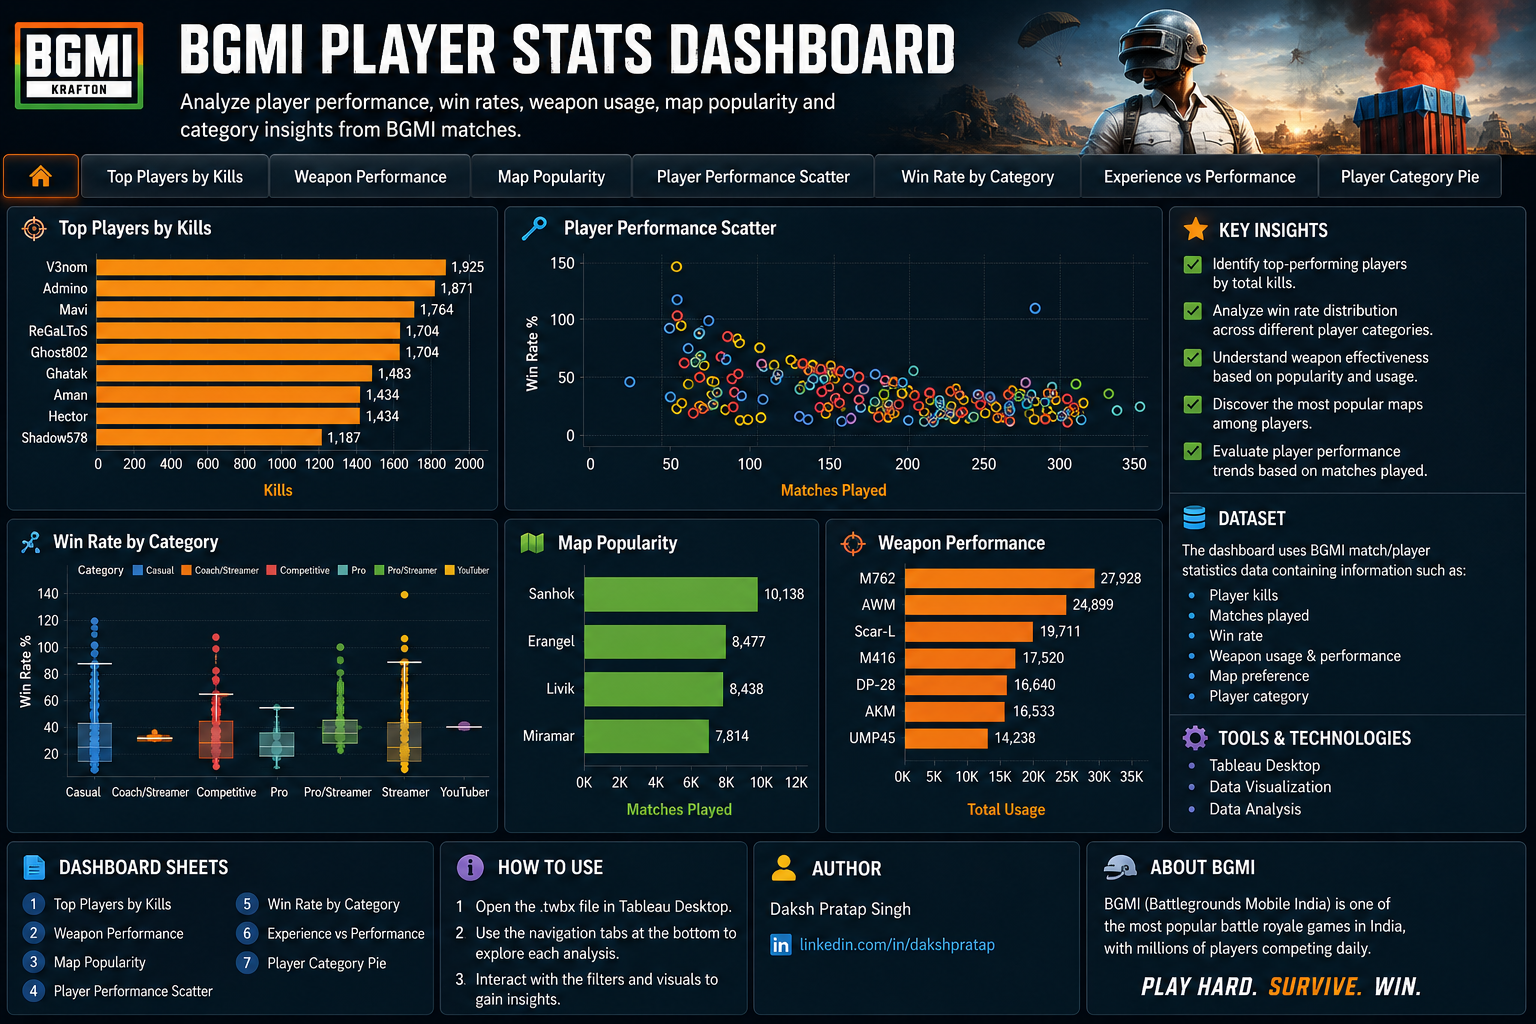

The page's visual inventory and layout, read from the dashboard file:
{"tool":"tableau","page":{"name":"Dashboard 1","canvas":[1000,1000],"units":"permille","ordinal":0},"visuals":[{"type":"text","box":[22.4,22.1,249.4,76.7]},{"type":"worksheet","title":"Player Performance Scatter","mark":"Automatic","rows":["Win_Rate_%"],"cols":["Matches_Played"],"box":[491.7,99.2,507.7,249.2]},{"type":"worksheet","title":"Top Players by Kills","mark":"Bar","rows":["InGame_Name"],"cols":["Kills"],"box":[20.8,100.8,393.9,252.4]},{"type":"worksheet","title":"Weapon Performance","mark":"Bar","rows":["Favorite_Weapon"],"cols":["Kills"],"box":[757.8,395.2,238.5,334.1]},{"type":"worksheet","title":"Map Popularity","mark":"Bar","rows":["Favorite_Map"],"cols":["Matches_Played"],"box":[494.8,401.6,241,332.5]},{"type":"worksheet","title":"Win Rate by Category","mark":"Circle","rows":["Win_Rate_%"],"cols":["Category"],"box":[32.4,411.9,419,332.5]},{"type":"legend","title":"Win Rate by Category","param":"[federated.1irem1508qulsl15lipx61f8wqq5].[none:Category:nk]","box":[391.4,425.4,85,196.8]},{"type":"legend","title":"Player Category Pie","param":"[federated.1irem1508qulsl15lipx61f8wqq5].[sum:Headshots:qk]","box":[423.2,757.9,85.6,34.1]},{"type":"worksheet","title":"Player Category Pie","mark":"Pie","box":[521.1,757.9,471.6,236.5]},{"type":"worksheet","title":"Experience vs Performance","mark":"Circle","rows":["Win_Rate_%"],"cols":["Matches_Played"],"box":[41.6,764.3,437.9,236.5]},{"type":"legend","title":"Experience vs Performance","param":"[federated.1irem1508qulsl15lipx61f8wqq5].[sum:Kills:qk]","box":[374.9,764.3,85.6,100.8]}]}

Visuals, with their boxes on the dashboard's canvas, which has no fixed pixel size, in thousandths of its width and height (x1, y1, x2, y2). These are canvas units, not pixel positions in the 1536x1024 screenshot, which may show the page scaled, cropped or inside an application window:
text: (x1=22, y1=22, x2=272, y2=99)
"Player Performance Scatter" worksheet: (x1=492, y1=99, x2=999, y2=348)
"Top Players by Kills" worksheet (Bar marks): (x1=21, y1=101, x2=415, y2=353)
"Weapon Performance" worksheet (Bar marks): (x1=758, y1=395, x2=996, y2=729)
"Map Popularity" worksheet (Bar marks): (x1=495, y1=402, x2=736, y2=734)
"Win Rate by Category" worksheet (Circle marks): (x1=32, y1=412, x2=451, y2=744)
"Win Rate by Category" legend: (x1=391, y1=425, x2=476, y2=622)
"Player Category Pie" legend: (x1=423, y1=758, x2=509, y2=792)
"Player Category Pie" worksheet (Pie marks): (x1=521, y1=758, x2=993, y2=994)
"Experience vs Performance" worksheet (Circle marks): (x1=42, y1=764, x2=480, y2=1001)
"Experience vs Performance" legend: (x1=375, y1=764, x2=460, y2=865)
